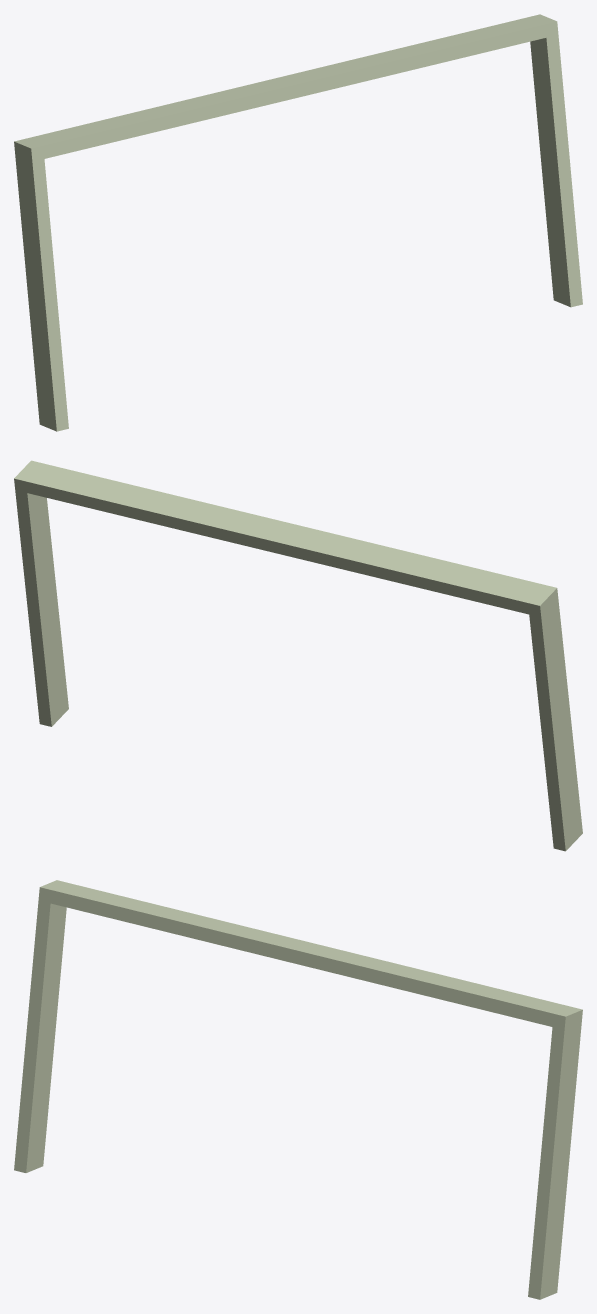
File: original-56.obj
3 views of the same model, one above another, from view 1: azimuth 30°, elevation 25°; view 2: azimuth 150°, elevation 25°; view 3: azimuth 330°, elevation 25° (orthographic).
Parts seen in each view (by area): view 1: Group42/mesh153/mesh153-geometry#mesh153-geometry; view 2: Group42/mesh153/mesh153-geometry#mesh153-geometry; view 3: Group42/mesh153/mesh153-geometry#mesh153-geometry.
Part boxes in pixels (bbox=[...]): Group42/mesh153/mesh153-geometry#mesh153-geometry: bbox=[14, 14, 582, 431]; Group42/mesh153/mesh153-geometry#mesh153-geometry: bbox=[14, 460, 582, 851]; Group42/mesh153/mesh153-geometry#mesh153-geometry: bbox=[14, 880, 582, 1299].
Bounding box in the file's own units: 0.1579 × 0.0777 × 0.0224.
